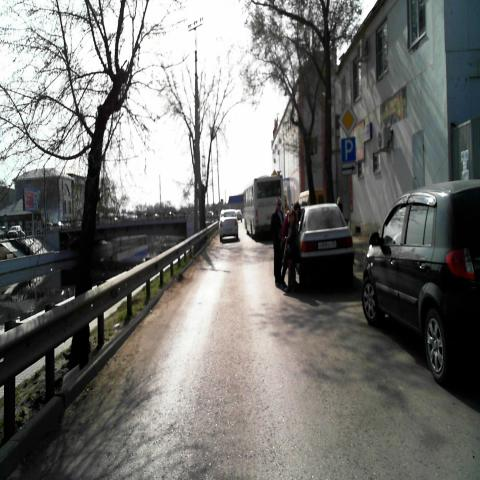8_3_1: (342, 162, 356, 174)
